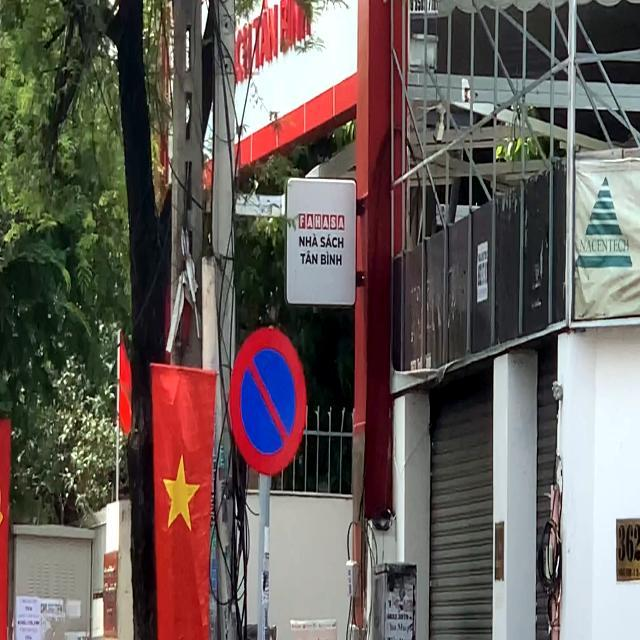P-131a: (229, 326, 305, 474)
